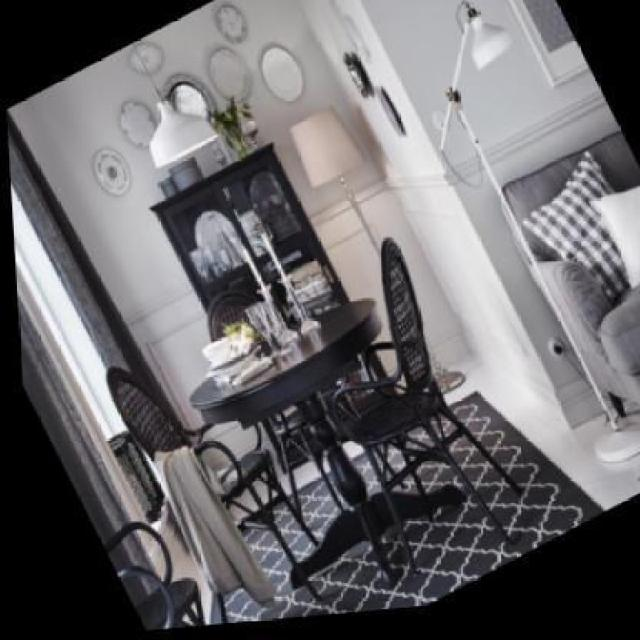tables: (188, 296, 392, 596)
